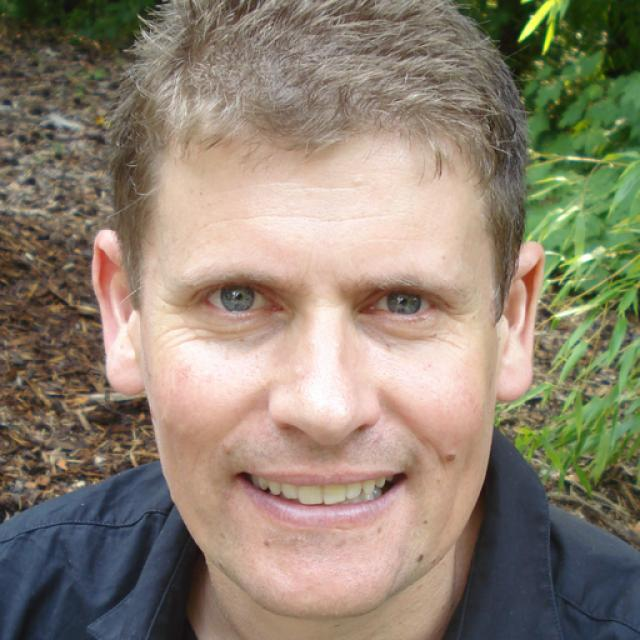Acne: (210, 430, 243, 464), (437, 440, 461, 466), (348, 176, 366, 189)
Wrinkle: (197, 203, 413, 230)
